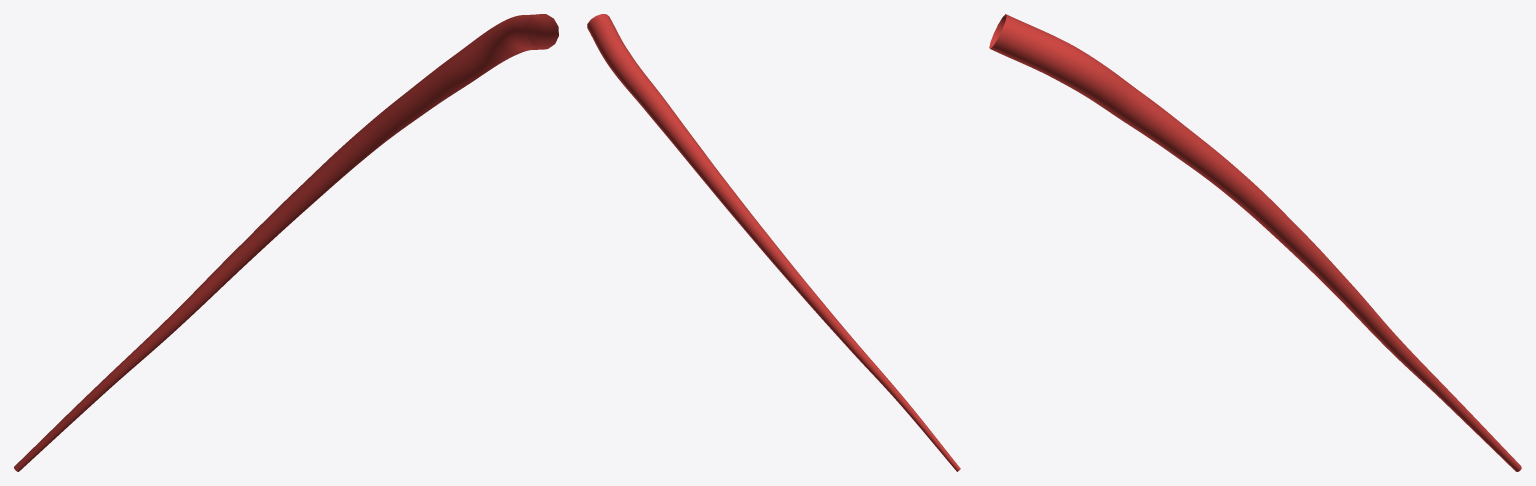
3 views of the same model, side by side, from view 1: azimuth 30°, elevation 25°; view 2: azimuth 210°, elevation 25°; view 3: azimuth 270°, elevation 25° (orthographic). The views are drawn at different scales.
Visible parts, largest first — view 1: 左侧上牙槽后动脉; view 2: 左侧上牙槽后动脉; view 3: 左侧上牙槽后动脉.
Boxes of the visible parts, box(x1,y1,x2,y2) form: 左侧上牙槽后动脉: box(14, 14, 558, 471); 左侧上牙槽后动脉: box(587, 14, 960, 471); 左侧上牙槽后动脉: box(989, 14, 1521, 471).
Size of the model in its own units: 0.0143 by 0.0251 by 0.0201.
